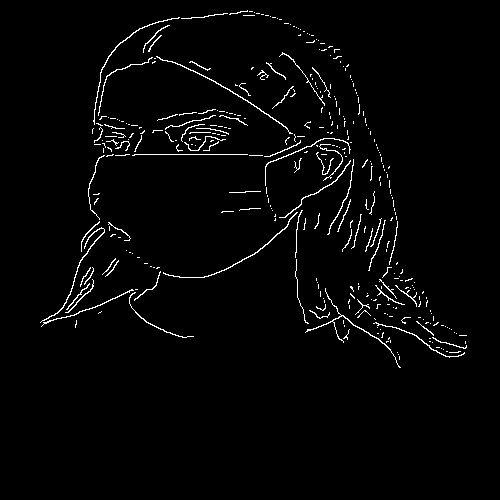mask: (89, 156, 289, 278)
